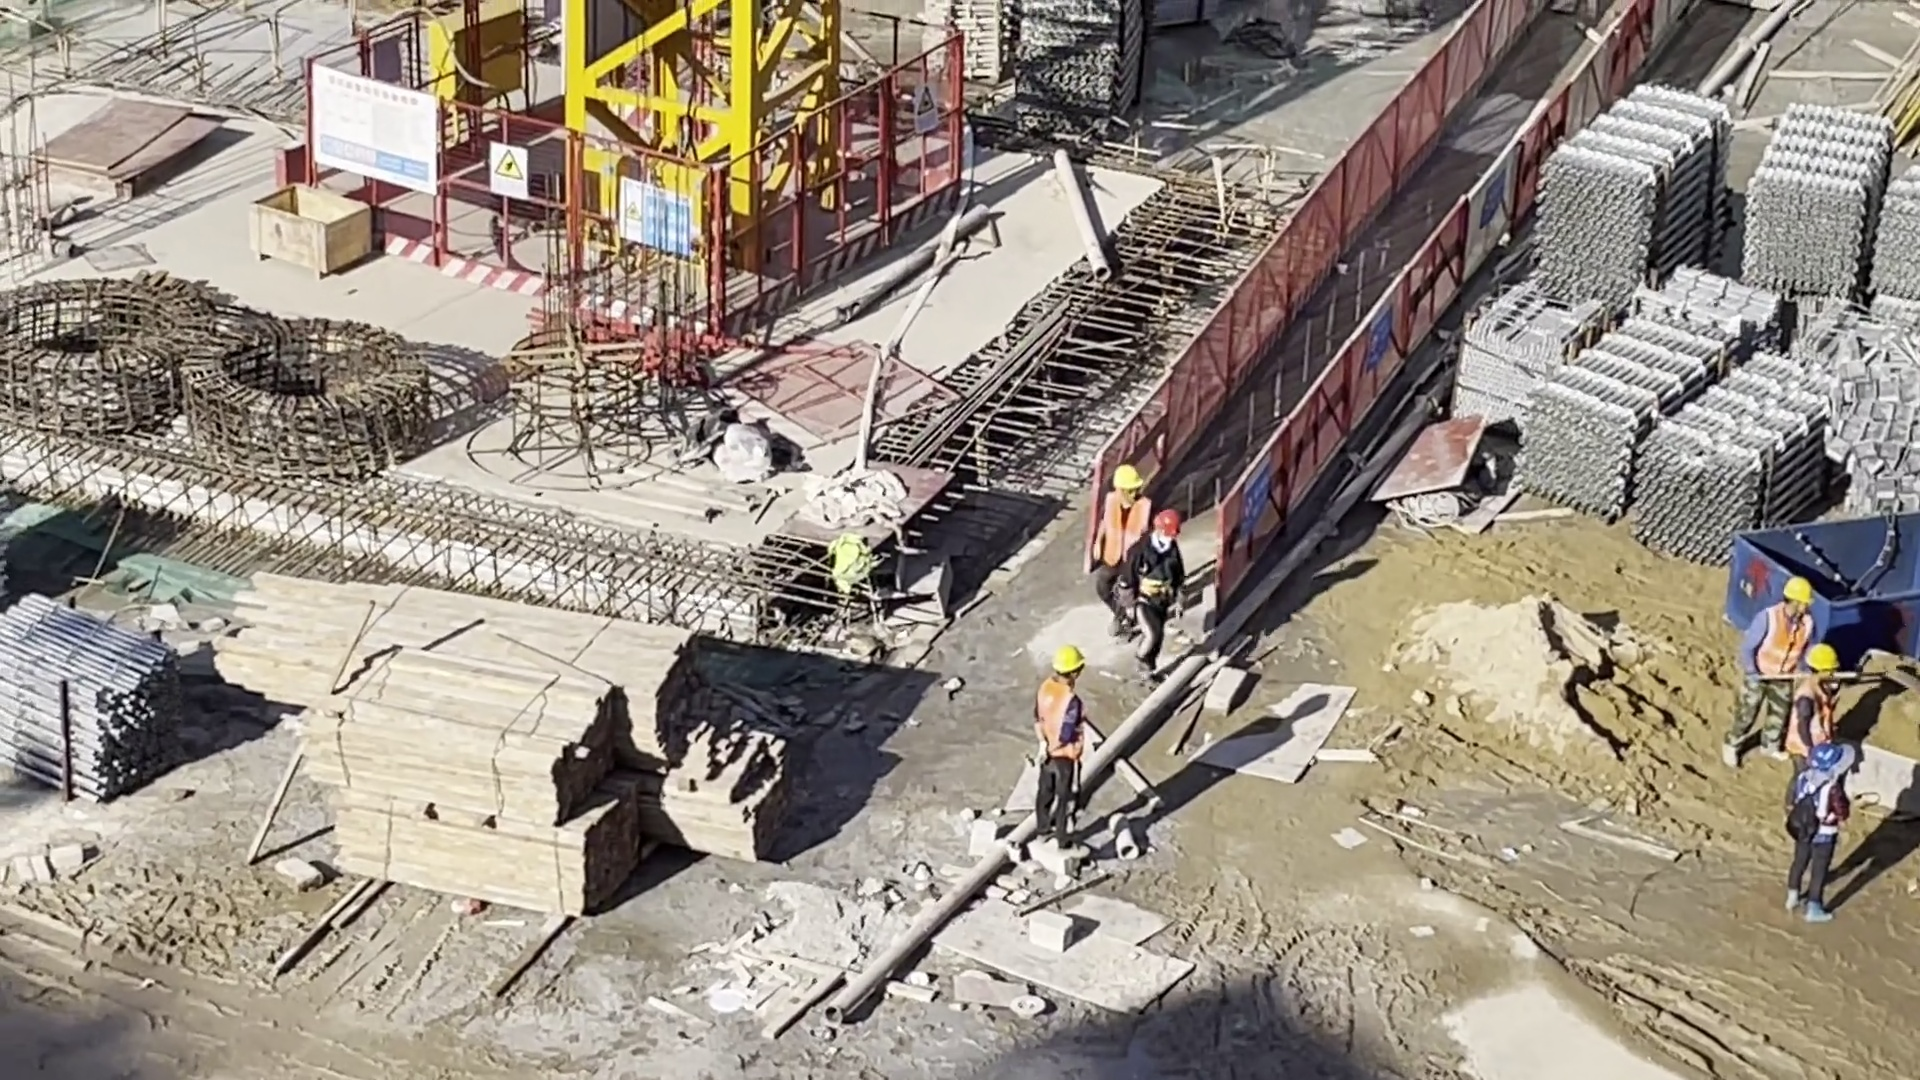board: (39, 107, 215, 196)
ebox: (426, 1, 524, 112)
fence: (1101, 6, 1652, 600)
helmet: (1052, 645, 1082, 676), (1784, 578, 1816, 605), (1113, 465, 1144, 489), (1805, 647, 1838, 670), (1812, 744, 1840, 768), (1155, 508, 1178, 535)
hopper: (1736, 507, 1920, 668), (1844, 643, 1920, 818)
person: (1731, 576, 1808, 762), (1089, 468, 1154, 631), (1794, 745, 1852, 922), (1038, 650, 1083, 850), (1131, 514, 1179, 684), (1792, 647, 1836, 803)
scaffold: (1527, 311, 1739, 516), (1644, 354, 1824, 565), (1539, 87, 1723, 291), (1, 601, 175, 799), (1743, 107, 1892, 295), (960, 1, 1143, 120)
slogan: (621, 181, 686, 261), (1239, 457, 1274, 530), (490, 146, 525, 199), (1369, 299, 1393, 369), (913, 84, 939, 141)
vest: (1793, 677, 1840, 749), (1761, 603, 1805, 676), (1043, 683, 1085, 758), (1794, 772, 1843, 829), (1102, 499, 1148, 561)
wood: (331, 662, 643, 924), (244, 595, 693, 764)
